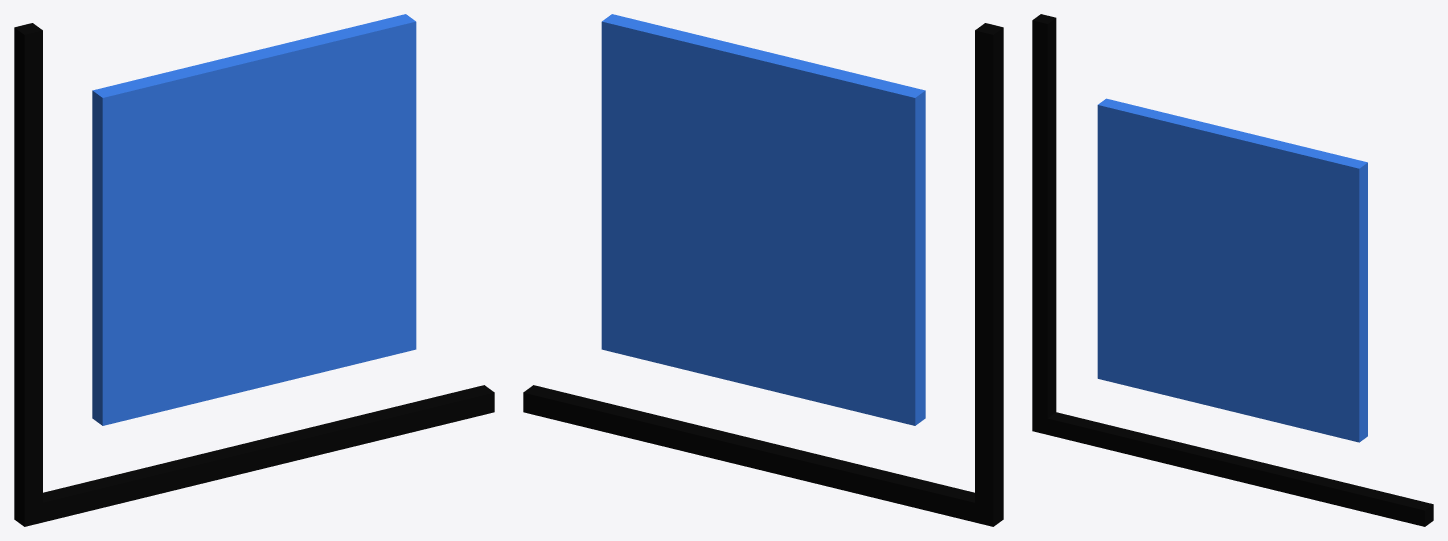
The model's file is cuadrado.fbx.
3 views of the same model, side by side, from view 1: azimuth 30°, elevation 25°; view 2: azimuth 150°, elevation 25°; view 3: azimuth 330°, elevation 25° (orthographic). The views are drawn at different scales.
Parts seen in each view (by area): view 1: Mesh_1, Mesh_0; view 2: Mesh_1, Mesh_0; view 3: Mesh_1, Mesh_0.
Boxes of the visible parts, x1,y1,x2,y2 form: Mesh_1: (92, 14, 416, 425); Mesh_0: (14, 23, 494, 526); Mesh_1: (601, 14, 925, 425); Mesh_0: (523, 23, 1003, 526); Mesh_1: (1097, 98, 1367, 442); Mesh_0: (1032, 14, 1433, 526).
Size of the model in its own units: 6 by 6 by 0.2281.
